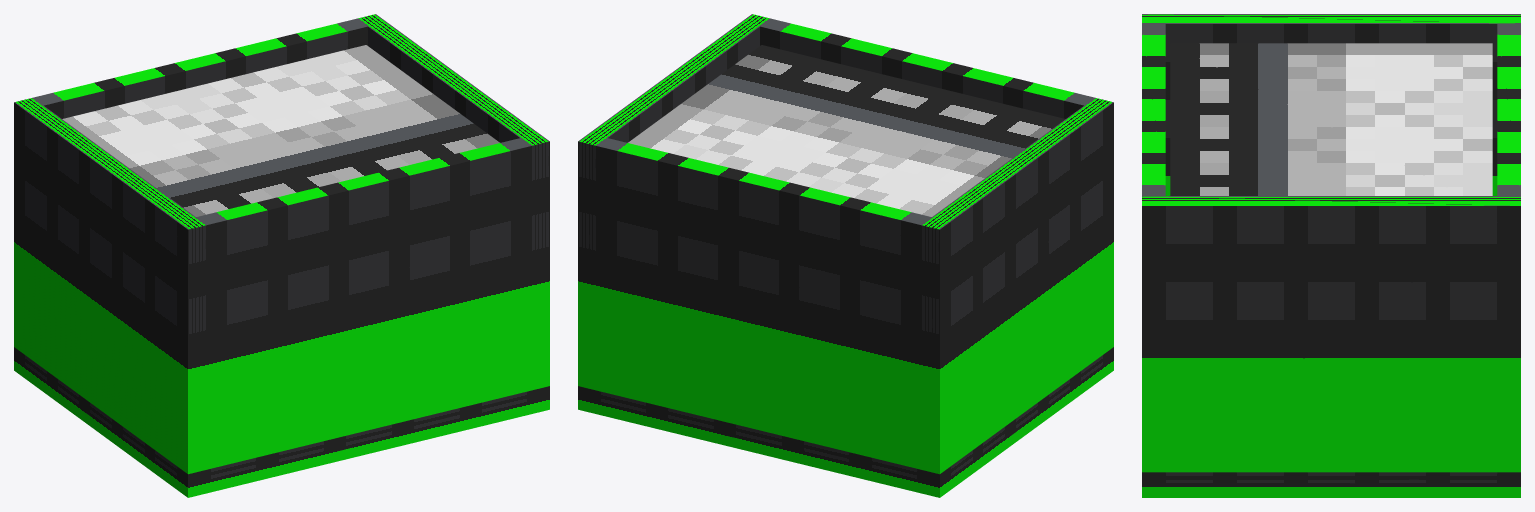
Rendered from linen_bin.glb.
3 renders of one model, left to right at view 1: azimuth 30°, elevation 25°; view 2: azimuth 150°, elevation 25°; view 3: azimuth 270°, elevation 25°, orthographic. The views are drawn at different scales.
Visible parts, largest first — view 1: Bin, Linen; view 2: Bin, Linen; view 3: Bin, Linen.
Part boxes in pixels (x1=…): Bin: x1=14, y1=14, x2=549, y2=497; Linen: x1=62, y1=45, x2=499, y2=216; Bin: x1=578, y1=14, x2=1113, y2=497; Linen: x1=628, y1=45, x2=1065, y2=216; Bin: x1=1142, y1=14, x2=1520, y2=497; Linen: x1=1170, y1=43, x2=1492, y2=195.
Size of the model in its own units: 0.96 by 0.68 by 0.8.
Materials: 1 (1 with a texture image).
